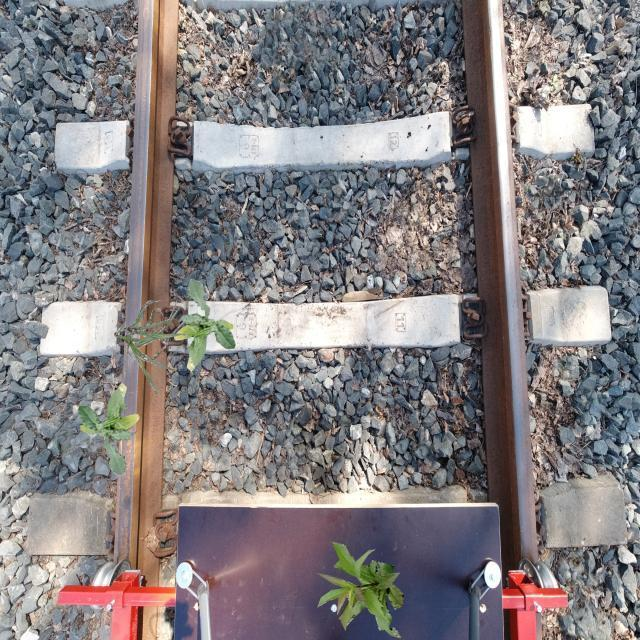Plant: (315, 541, 403, 638), (115, 300, 188, 393), (174, 279, 236, 372), (78, 383, 140, 476)
